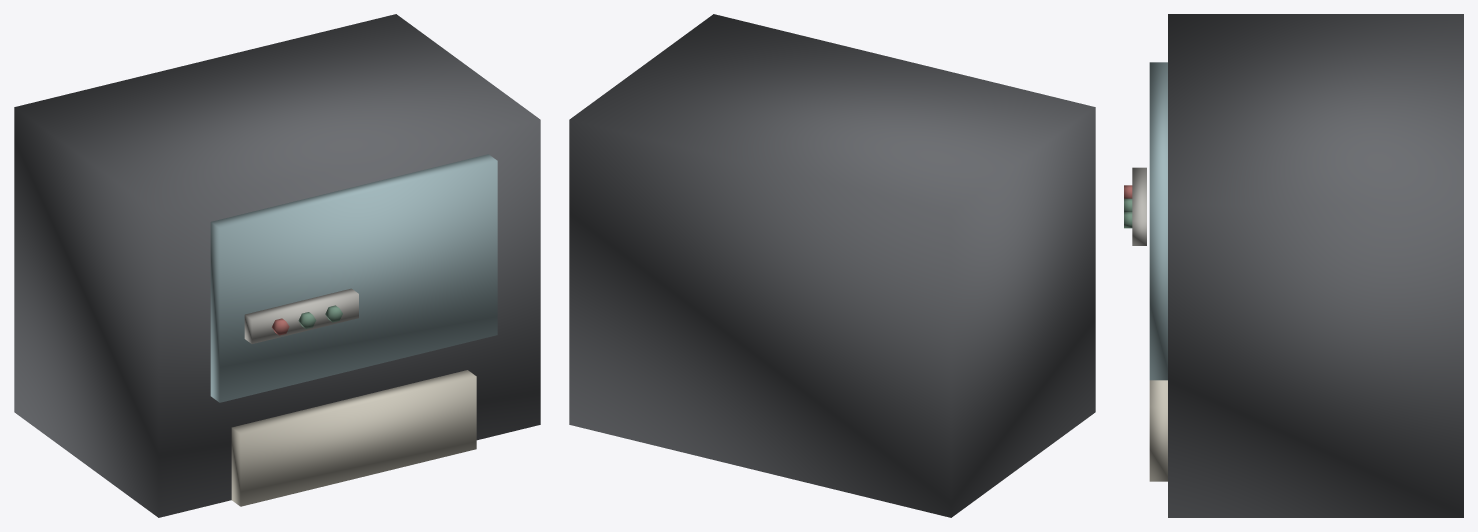
Rendered from terminal_pedestal.glb.
3 renders of one model, left to right at view 1: azimuth 30°, elevation 25°; view 2: azimuth 150°, elevation 25°; view 3: azimuth 270°, elevation 25°, orthographic. The views are drawn at different scales.
Visible parts, largest first — view 1: world; view 2: world; view 3: world.
Part boxes in pixels (box(x1,y1,x2,y2)): world: box(14, 14, 540, 517); world: box(569, 14, 1095, 517); world: box(1124, 14, 1463, 517).
Bounding box in the file's own units: 0.55 × 0.42 × 0.4135.
